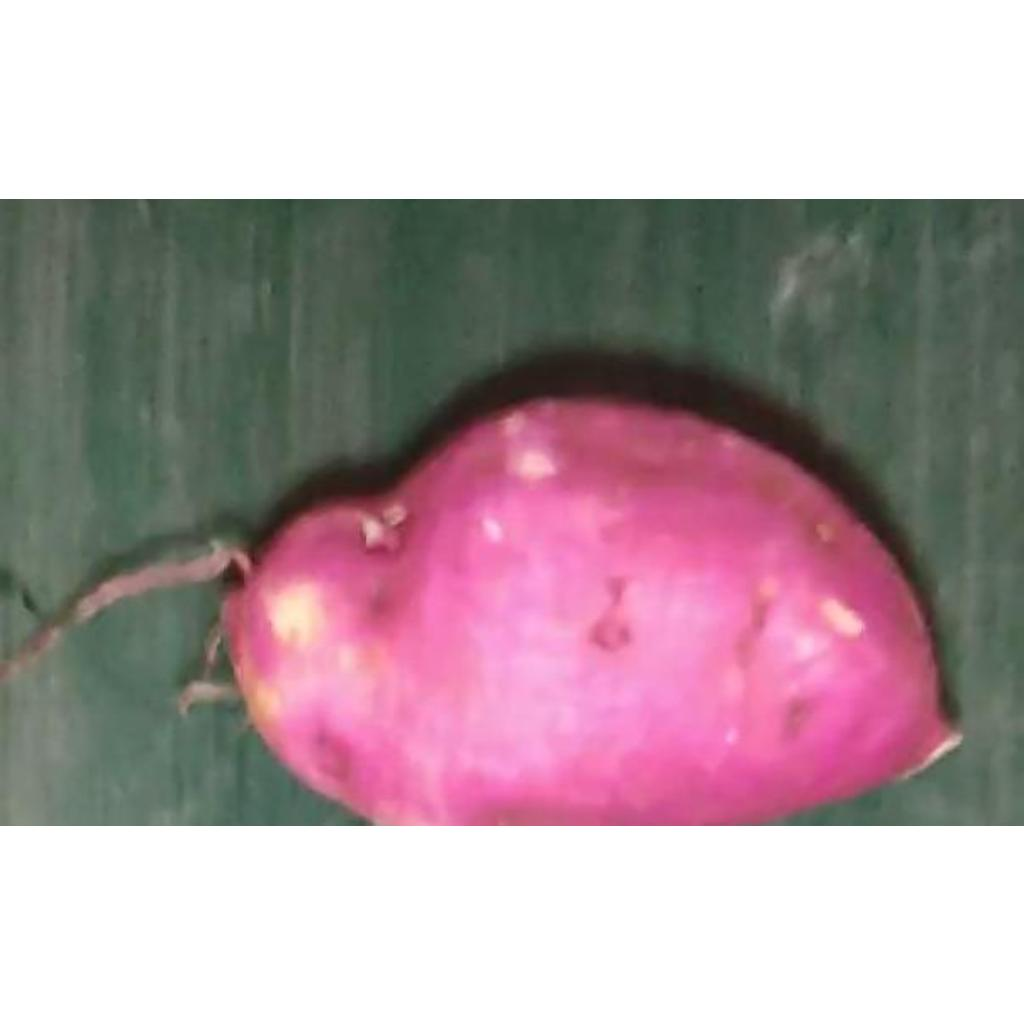Sweet Potato: (224, 401, 961, 825)
